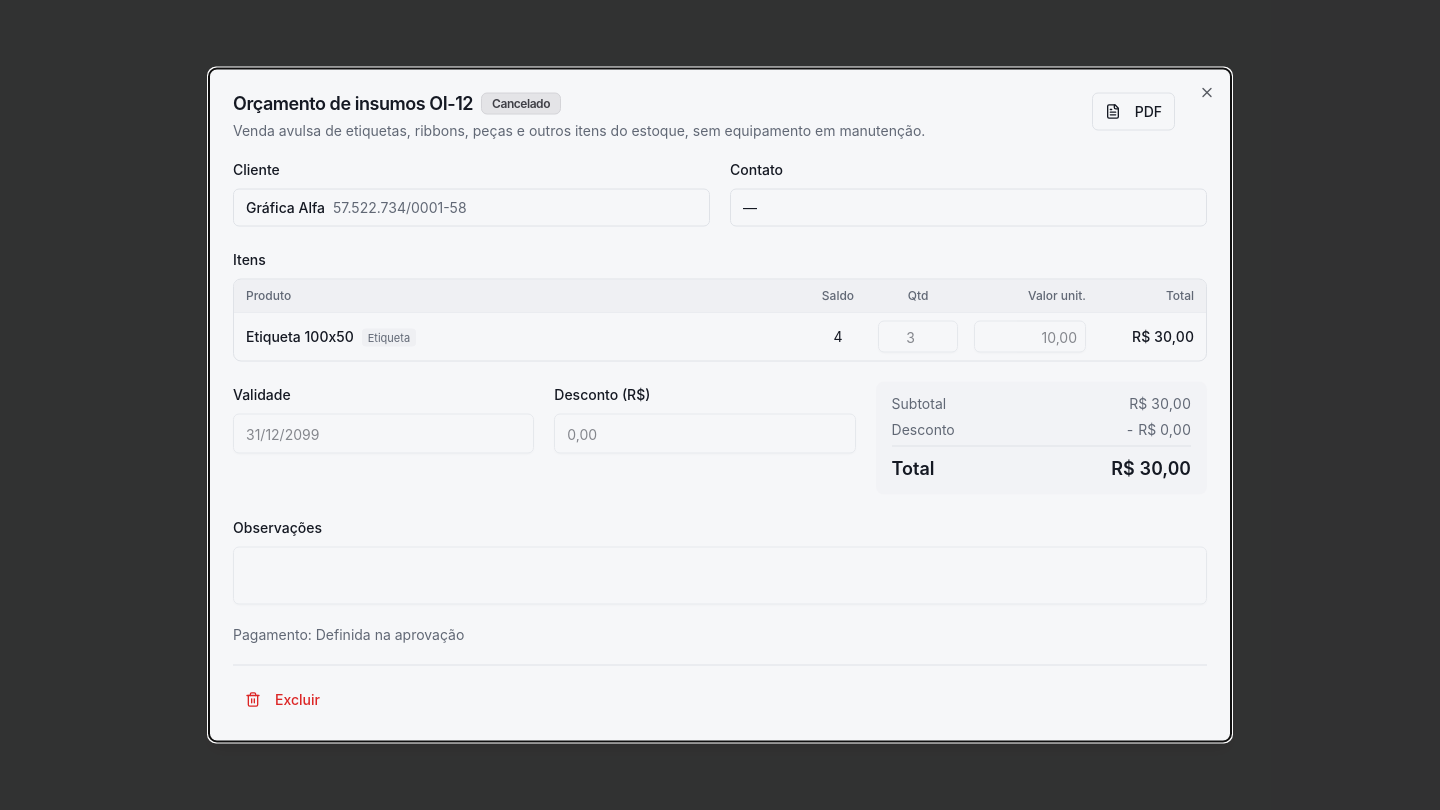
it: OrcamentoInsumosDialog: ações por status › backend rejeita a exclusão: mostra o motivo e mantém o diálogo aberto
Expected: the heading "Orçamento de insumos OI-12 Cancelado" is shown, left=233, top=92, right=561, bottom=114
Click the button "Excluir". click: (282, 700)
box: left=233, top=682, right=332, bottom=718
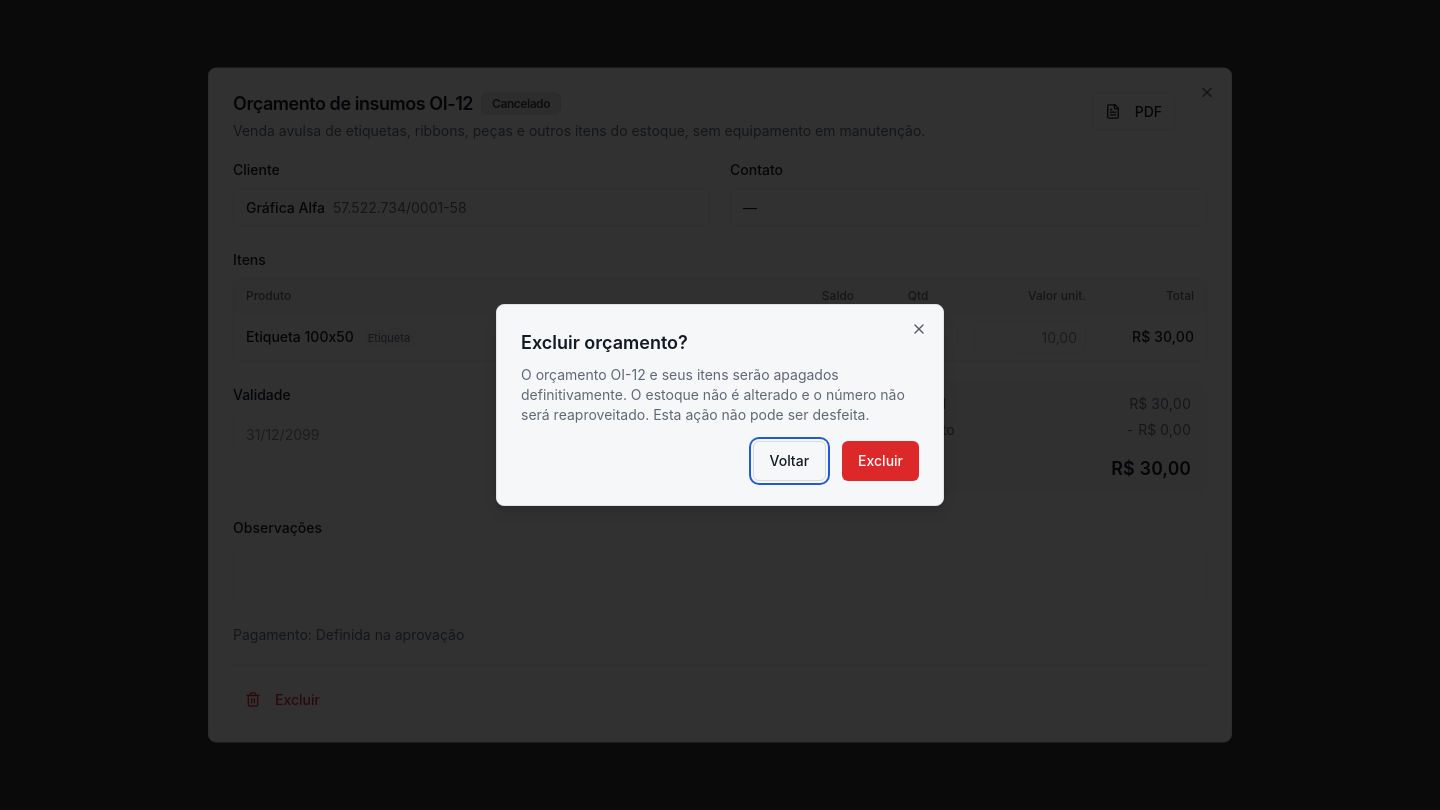
Click the button "Excluir". click: (881, 461)
box: left=842, top=441, right=919, bottom=481
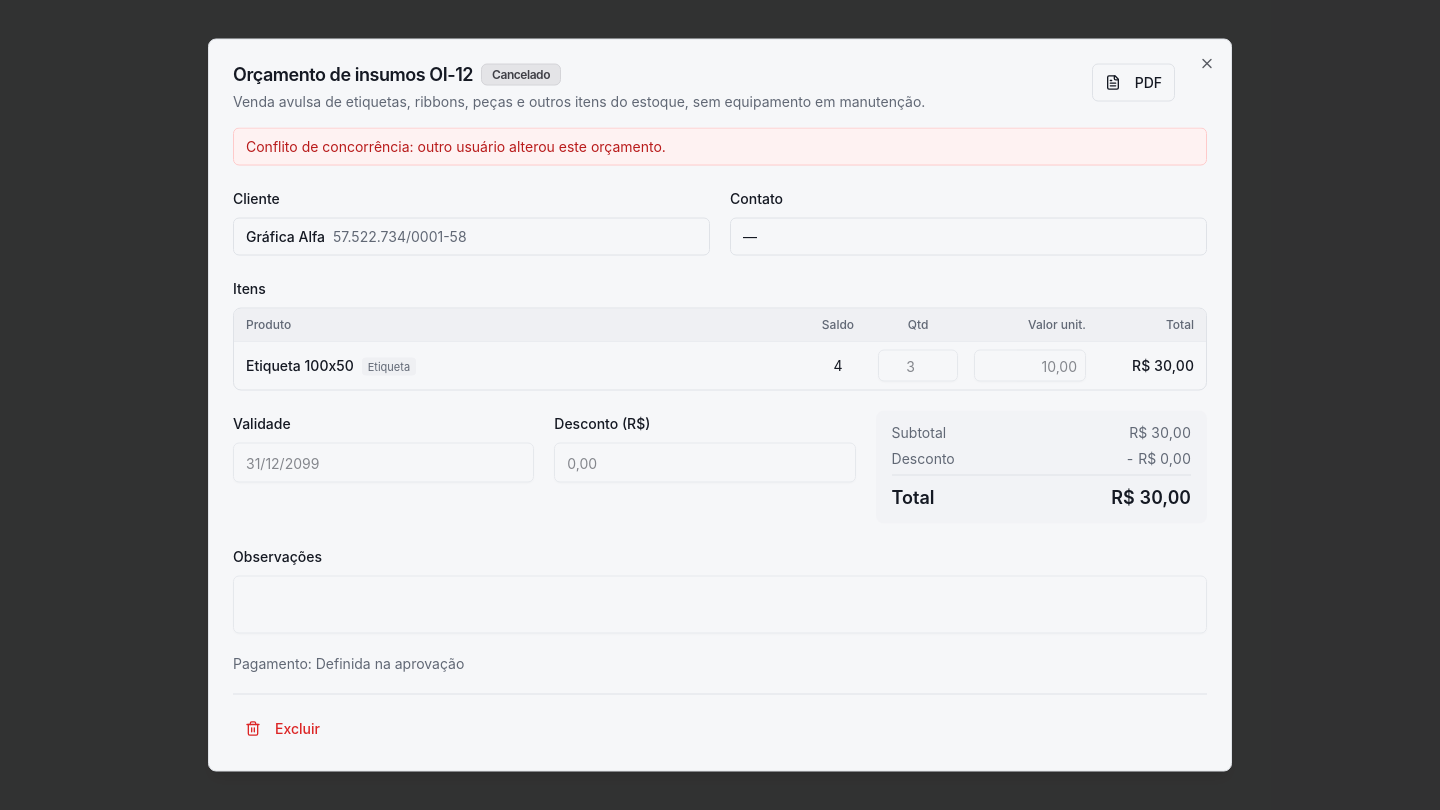
Result: the message reads "Conflito de concorrência: outro usuário alterou este orçamento." at left=246, top=138, right=666, bottom=154
